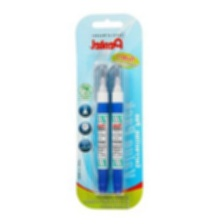correction_fluid: (91, 60, 112, 194), (107, 61, 126, 195)
